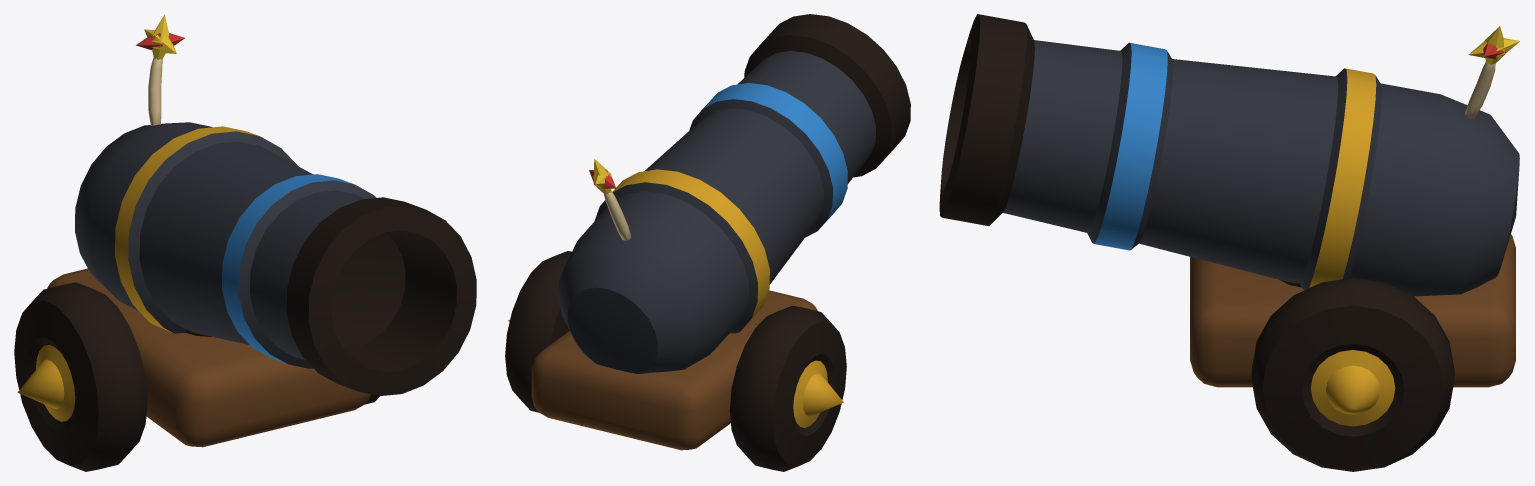
3 views of the same model, side by side, from view 1: azimuth 30°, elevation 25°; view 2: azimuth 150°, elevation 25°; view 3: azimuth 270°, elevation 25° (orthographic). The views are drawn at different scales.
Parts seen in each view (by area): view 1: bomba_1_torreta, bomba_0_base; view 2: bomba_1_torreta, bomba_0_base; view 3: bomba_1_torreta, bomba_0_base.
Part boxes in pixels (left/top/right/bottom): bomba_1_torreta: left=75, top=14, right=476, bottom=395; bomba_0_base: left=14, top=268, right=379, bottom=471; bomba_1_torreta: left=558, top=14, right=910, bottom=373; bomba_0_base: left=505, top=251, right=846, bottom=471; bomba_1_torreta: left=939, top=14, right=1519, bottom=296; bomba_0_base: left=1190, top=234, right=1515, bottom=471.
Bounding box in the file's own units: 0.784 × 0.707 × 0.9622.
